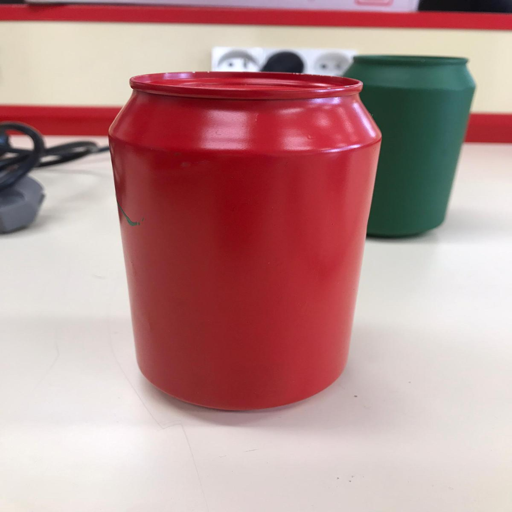Green_Can: (338, 50, 478, 240)
Red_Can: (104, 68, 384, 414)
